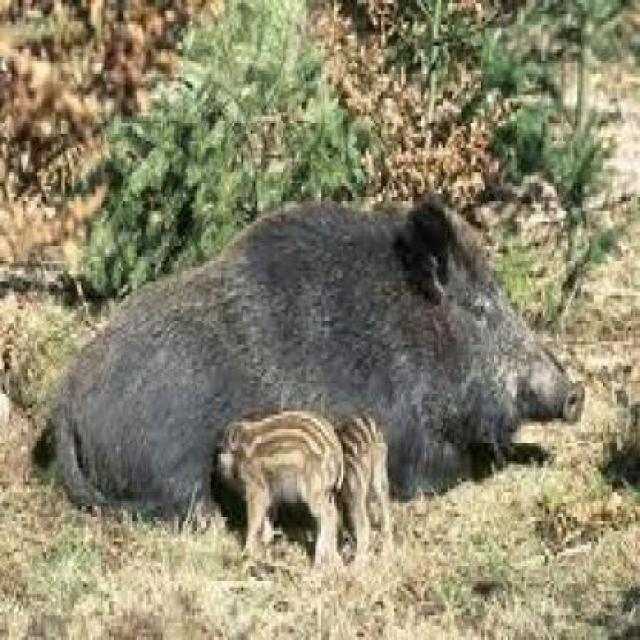wildboar: (30, 175, 601, 576), (201, 403, 345, 569), (300, 396, 405, 562)
